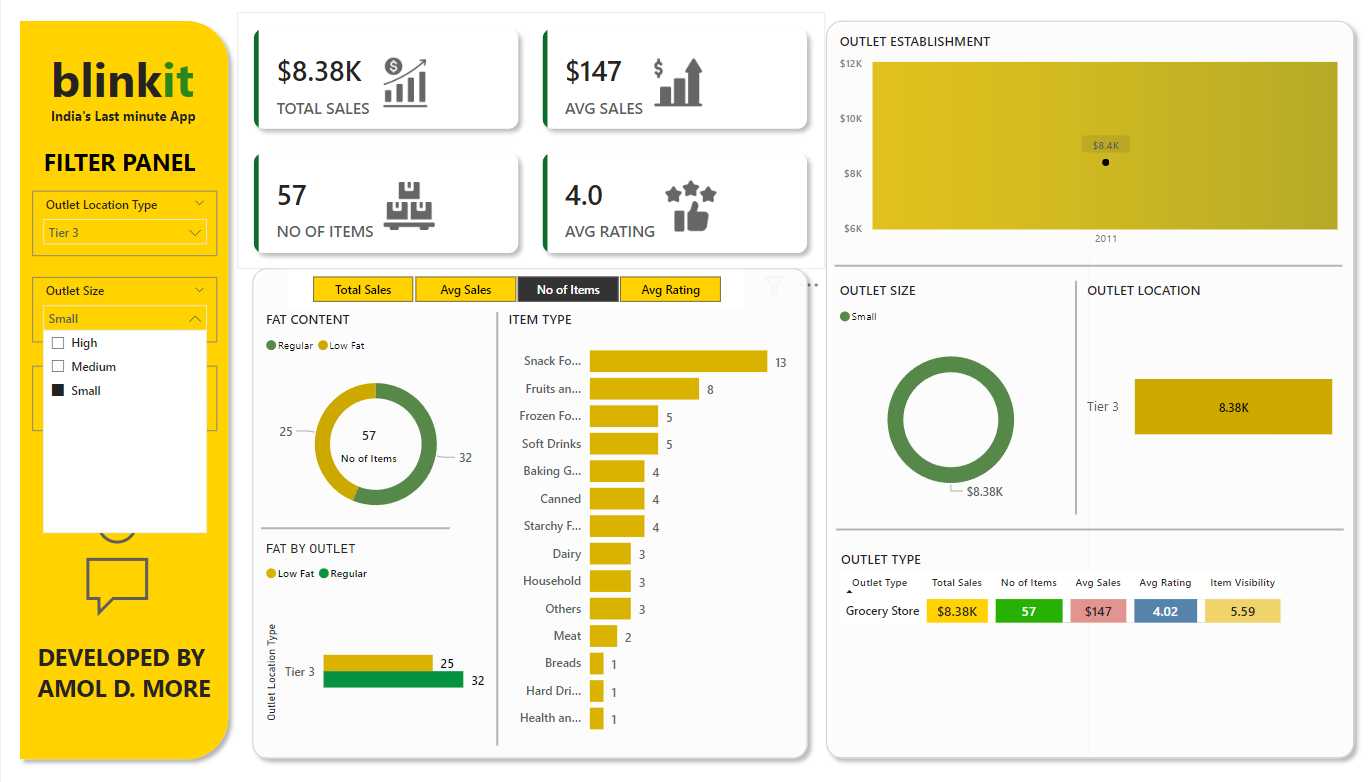

Layout of this report page (visuals, bound fields, positions):
{"tool":"powerbi","page":{"name":"Page 1","canvas":[1400,800],"ordinal":0},"visuals":[{"type":"shape","box":[10.2,15.3,230,768.9],"z":0},{"type":"textbox","box":[46.2,45,181.2,78.8],"z":1000},{"type":"textbox","box":[46.2,106.2,170,31.2],"z":2000},{"type":"cardVisual","fields":{"Data":["BlinkIT Grocery Data.Total Sales","BlinkIT Grocery Data.Avg Sales","BlinkIT Grocery Data.No of Items","BlinkIT Grocery Data.Avg Rating"]},"box":[240,15,597.5,262.5],"z":3000},{"type":"shape","box":[246.2,267.5,582.5,516.2],"z":4000},{"type":"donutChart","title":"FAT CONTENT","fields":{"Y":["BlinkIT Grocery Data.No of Items"],"Category":["BlinkIT Grocery Data.Item Fat Content"]},"box":[264.3,317.7,233.8,228.8],"z":5000},{"type":"slicer","fields":{"Values":["Metrics.Metrics"]},"box":[291.2,277.5,465,40],"z":6000},{"type":"cardVisual","fields":{"Data":["BlinkIT Grocery Data.No of Items"]},"box":[316.2,420,115,67.5],"z":7000},{"type":"clusteredBarChart","title":"FAT BY OUTLET","fields":{"Y":["BlinkIT Grocery Data.No of Items"],"Category":["BlinkIT Grocery Data.Outlet Location Type"],"Series":["BlinkIT Grocery Data.Item Fat Content"]},"box":[264.3,552.8,233.8,217.3],"z":8000},{"type":"shape","box":[264.3,533.8,191.9,12.7],"z":9000},{"type":"shape","box":[1093,266.9,25.4,503.3],"z":10000},{"type":"barChart","title":"ITEM TYPE","fields":{"Y":["BlinkIT Grocery Data.No of Items"],"Category":["BlinkIT Grocery Data.Item Type"]},"box":[510.9,317.7,301.2,443.5],"z":11000},{"type":"shape","box":[829.3,15,554.8,767.8],"z":12000},{"type":"lineChart","title":"OUTLET ESTABLISHMENT","fields":{"Y":["BlinkIT Grocery Data.Total Sales"],"Category":["BlinkIT Grocery Data.Outlet Establishment Year"]},"box":[847.7,35.6,516,227.5],"z":13000},{"type":"shape","box":[849,535,516,12.7],"z":14000},{"type":"donutChart","title":"OUTLET SIZE","fields":{"Y":["BlinkIT Grocery Data.Total Sales"],"Category":["BlinkIT Grocery Data.Outlet Size"]},"box":[847.7,288.5,236.4,237.7],"z":15000},{"type":"shape","box":[498.2,320.3,12.7,441],"z":16000},{"type":"shape","box":[1086.6,288.5,12.7,237.7],"z":17000},{"type":"funnel","title":"OUTLET LOCATION","fields":{"Category":["BlinkIT Grocery Data.Outlet Location Type"],"Y":["Sum(BlinkIT Grocery Data.Sales)"]},"box":[1099.3,288.5,264.3,237.7],"z":18000},{"type":"shape","box":[847.7,266.9,516,12.7],"z":19000},{"type":"pivotTable","title":"OUTLET TYPE","fields":{"Rows":["BlinkIT Grocery Data.Outlet Type"],"Values":["BlinkIT Grocery Data.Total Sales","BlinkIT Grocery Data.No of Items","BlinkIT Grocery Data.Avg Sales","BlinkIT Grocery Data.Avg Rating","Sum(BlinkIT Grocery Data.Item Visibility)"]},"box":[849,561.7,516,199.5],"z":20000},{"type":"slicer","fields":{"Values":["BlinkIT Grocery Data.Outlet Location Type"]},"box":[31.8,197,188.1,66.1],"z":21000},{"type":"slicer","fields":{"Values":["BlinkIT Grocery Data.Outlet Size"]},"box":[31.8,284.7,188.1,66.1],"z":22000},{"type":"slicer","fields":{"Values":["BlinkIT Grocery Data.Item Type"]},"box":[31.8,374.9,188.1,66.1],"z":23000},{"type":"textbox","box":[38.1,146.2,184.3,50.8],"z":24000},{"type":"actionButton","box":[45.8,453.7,152.5,43.2],"z":25000},{"type":"actionButton","box":[80.1,561.7,92.8,76.3],"z":26000},{"type":"actionButton","box":[91.5,508.4,63.5,53.4],"z":27000},{"type":"textbox","box":[31.8,649.4,198.3,86.4],"z":28000}]}

Visuals, with their boxes in screenshot pixels (x1, y1, x2, y2), scaled from the page's 1400x800 canvas onto the 1372x782 screenshot:
shape: 10:15:235:767
textbox: 45:44:223:121
textbox: 45:104:212:134
cardVisual - BlinkIT Grocery Data.Total Sales x BlinkIT Grocery Data.Avg Sales: 235:15:821:271
shape: 241:261:812:766
"FAT CONTENT" donutChart: 259:311:488:534
slicer - Metrics.Metrics: 285:271:741:310
cardVisual - BlinkIT Grocery Data.No of Items: 310:411:423:477
"FAT BY OUTLET" clusteredBarChart: 259:540:488:753
shape: 259:522:447:534
shape: 1071:261:1096:753
"ITEM TYPE" barChart: 501:311:796:744
shape: 813:15:1356:765
"OUTLET ESTABLISHMENT" lineChart: 831:35:1336:257
shape: 832:523:1338:535
"OUTLET SIZE" donutChart: 831:282:1062:514
shape: 488:313:501:744
shape: 1065:282:1077:514
"OUTLET LOCATION" funnel: 1077:282:1336:514
shape: 831:261:1336:273
"OUTLET TYPE" pivotTable: 832:549:1338:744
slicer - BlinkIT Grocery Data.Outlet Location Type: 31:193:216:257
slicer - BlinkIT Grocery Data.Outlet Size: 31:278:216:343
slicer - BlinkIT Grocery Data.Item Type: 31:366:216:431
textbox: 37:143:218:193
actionButton: 45:443:194:486
actionButton: 78:549:169:624
actionButton: 90:497:152:549
textbox: 31:635:225:719
